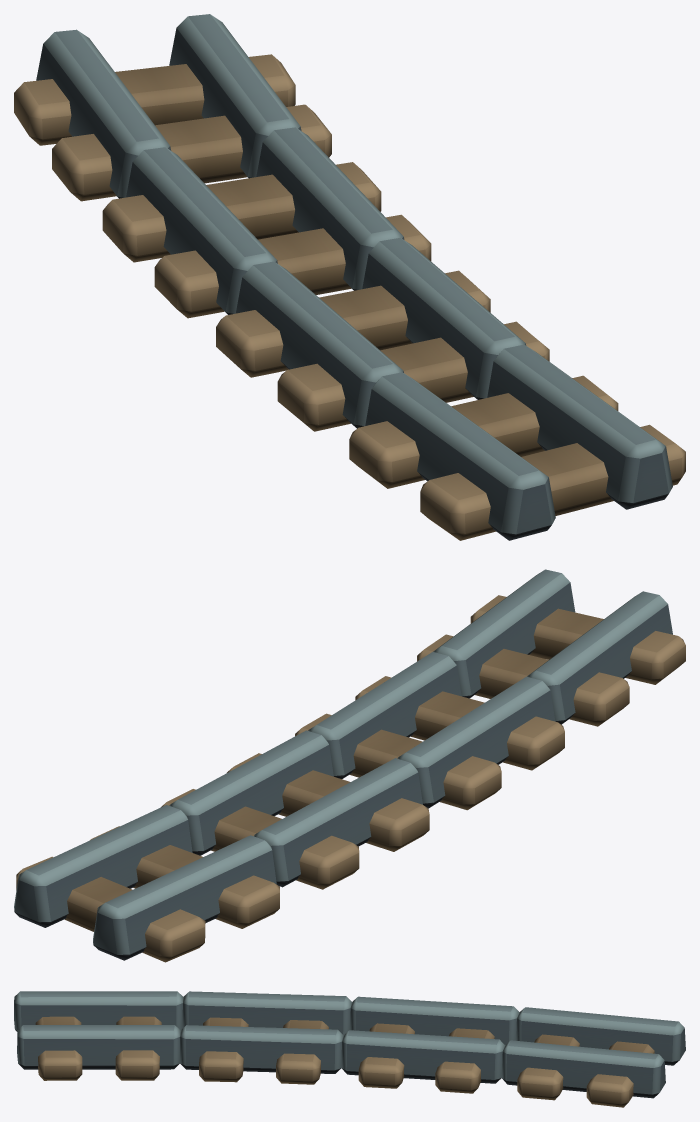
The model's file is mine_rail.fbx.
3 renders of one model, top to bottom at view 1: azimuth 30°, elevation 25°; view 2: azimuth 150°, elevation 25°; view 3: azimuth 270°, elevation 25°, orthographic. The views are drawn at different scales.
Visible parts, largest first — view 1: mine_rail; view 2: mine_rail; view 3: mine_rail.
Boxes of the visible parts, x1,y1,x2,y2 form: mine_rail: (14,14,685,540); mine_rail: (14,569,685,962); mine_rail: (14,991,685,1107).
Bounding box in the file's own units: 222 × 42.68 × 668.
